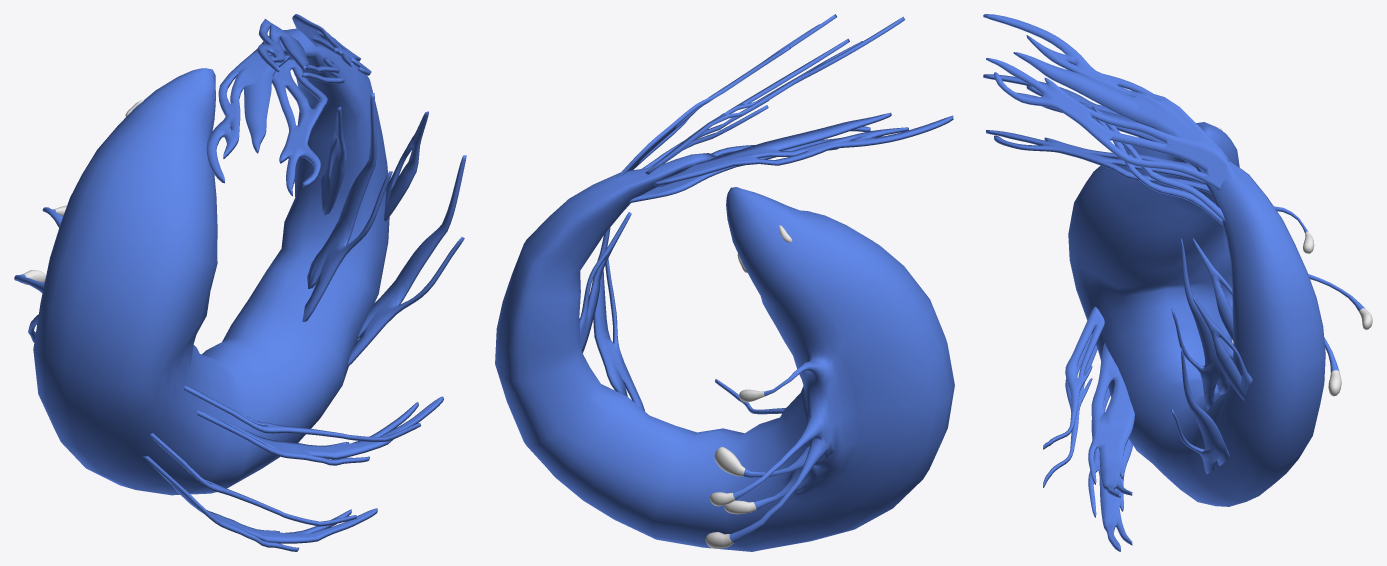
File: phSeaCreatureTest.fbx
The picture shows the model from 3 angles, left to right: view 1: azimuth 30°, elevation 25°; view 2: azimuth 150°, elevation 25°; view 3: azimuth 270°, elevation 25°; orthographic projection. The views are drawn at different scales.
Parts seen in each view (by area): view 1: phMainBodyCreature, phFinsCreature; view 2: phMainBodyCreature, phFinsCreature; view 3: phMainBodyCreature, phFinsCreature.
Part boxes in pixels (bbox=[...]): phMainBodyCreature: bbox=[14, 28, 389, 495]; phFinsCreature: bbox=[142, 14, 466, 551]; phMainBodyCreature: bbox=[495, 153, 954, 551]; phFinsCreature: bbox=[579, 14, 953, 414]; phMainBodyCreature: bbox=[1068, 122, 1372, 506]; phFinsCreature: bbox=[983, 14, 1252, 551].
Bounding box in the file's own units: 131 × 154 × 116.
